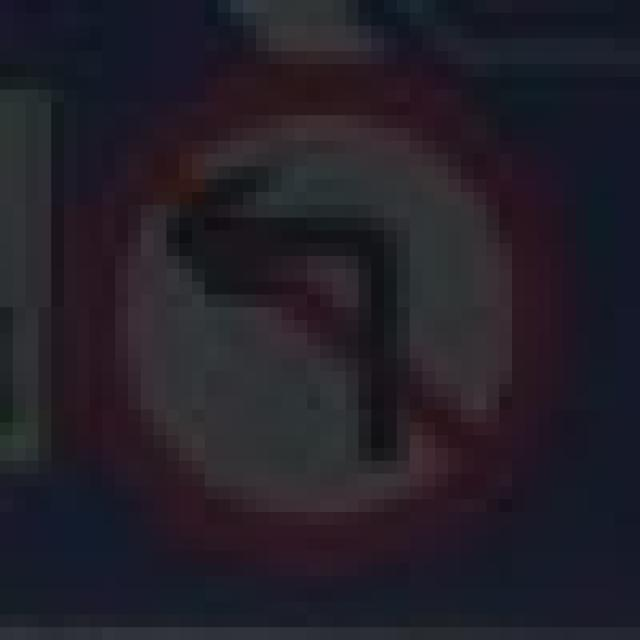do_not_turn_left: (51, 51, 563, 563)
